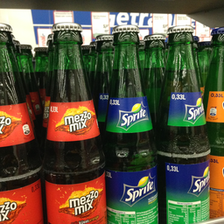soda: (42, 22, 107, 223), (157, 26, 211, 224), (106, 24, 158, 224), (1, 22, 44, 224)
